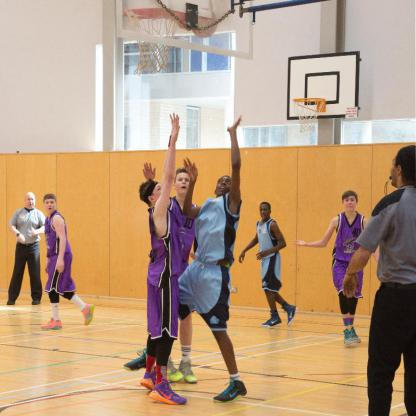Ball: (193, 7, 217, 36)
